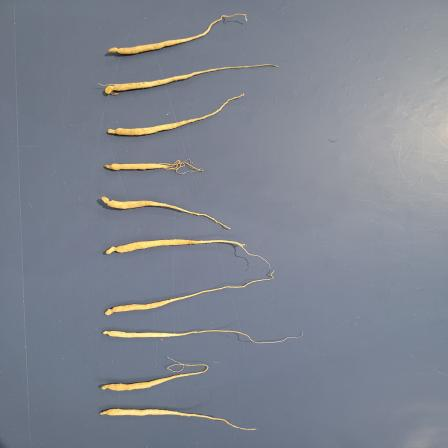Ginseng: (102, 268, 278, 317), (100, 63, 280, 99), (105, 12, 251, 56), (106, 96, 248, 137), (100, 236, 270, 267), (96, 193, 233, 230), (97, 353, 210, 394), (97, 406, 257, 432), (100, 327, 304, 345), (100, 158, 205, 174)
head: (104, 83, 119, 95), (105, 246, 123, 255), (100, 196, 114, 207), (104, 305, 118, 316), (107, 46, 123, 54), (103, 163, 116, 172), (107, 127, 121, 135), (99, 408, 111, 417), (101, 383, 112, 391), (102, 330, 113, 337)
